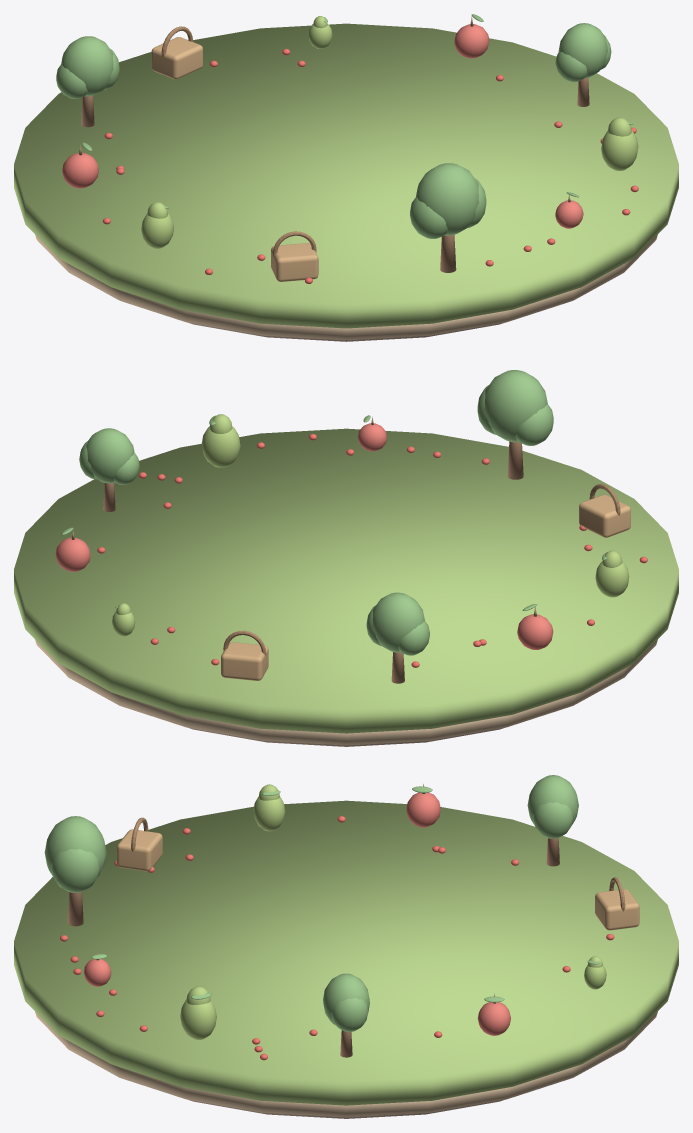
The model's file is world.glb.
3 renders of one model, top to bottom at view 1: azimuth 30°, elevation 25°; view 2: azimuth 150°, elevation 25°; view 3: azimuth 270°, elevation 25°, orthographic.
Visible parts, largest first — view 1: Cone, Cone.001, tree.003, tree.002, tree.001, basket.001, basket.002, pear.003, pear.002, apple.002, apple.001, apple.003 (+2 smaller); view 2: Cone, Cone.001, tree.003, tree.002, tree.001, basket.002, basket.001, pear.003, pear.002, apple.002, apple.001, apple.003 (+2 smaller); view 3: Cone, Cone.001, tree.003, tree.002, tree.001, basket.002, basket.001, pear.003, pear.002, apple.002, apple.001, apple.003 (+2 smaller).
Part boxes in pixels (<box>): Cone: <box>14,23,678,328</box>; Cone.001: <box>35,234,657,340</box>; tree.003: <box>410,163,486,272</box>; tree.002: <box>56,36,119,127</box>; tree.001: <box>555,23,611,106</box>; basket.001: <box>151,26,202,79</box>; basket.002: <box>271,231,318,281</box>; pear.003: <box>601,117,638,170</box>; pear.002: <box>141,202,173,248</box>; apple.002: <box>62,142,98,188</box>; apple.001: <box>454,14,489,58</box>; apple.003: <box>555,192,583,228</box>; Cone: <box>14,428,678,733</box>; Cone.001: <box>35,639,657,745</box>; tree.003: <box>477,370,553,479</box>; tree.002: <box>366,592,429,683</box>; tree.001: <box>79,428,139,511</box>; basket.002: <box>579,484,630,537</box>; basket.001: <box>221,630,268,680</box>; pear.003: <box>201,414,240,467</box>; pear.002: <box>595,550,629,597</box>; apple.002: <box>517,604,553,649</box>; apple.001: <box>55,527,90,571</box>; apple.003: <box>358,415,386,451</box>; Cone: <box>14,800,678,1105</box>; Cone.001: <box>35,1011,657,1117</box>; tree.003: <box>44,816,106,926</box>; tree.002: <box>527,775,578,866</box>; tree.001: <box>323,973,369,1057</box>; basket.002: <box>116,817,162,871</box>; basket.001: <box>595,877,639,930</box>; pear.003: <box>180,986,216,1039</box>; pear.002: <box>253,784,285,831</box>; apple.002: <box>406,784,440,827</box>; apple.001: <box>477,993,510,1035</box>; apple.003: <box>84,952,111,986</box>.
Bounding box in the file's own units: 9.6 × 2.45 × 9.6.
